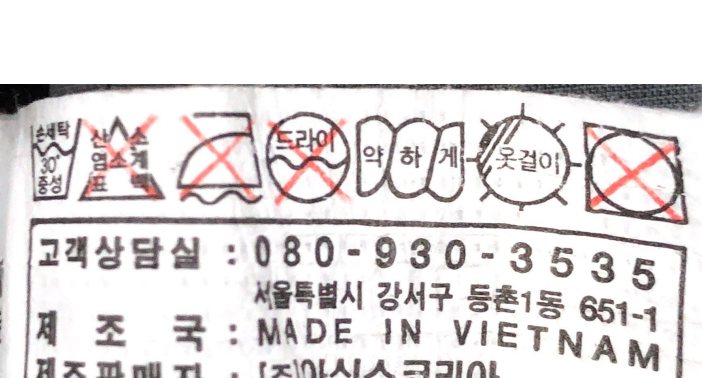KR_gentle_wring: (353, 111, 468, 204)
KR_hand_wash_30_neutral: (25, 116, 79, 203)
KR_hang_dry_in_shade: (473, 107, 576, 218)
KR_no_bleach: (82, 115, 162, 204)
KR_no_dry_clean: (262, 106, 348, 205)
KR_no_iron: (166, 104, 266, 208)
KR_no_tumble_dry: (576, 112, 696, 226)
